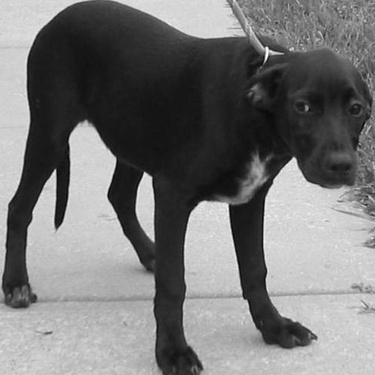dog: (6, 1, 371, 373)
